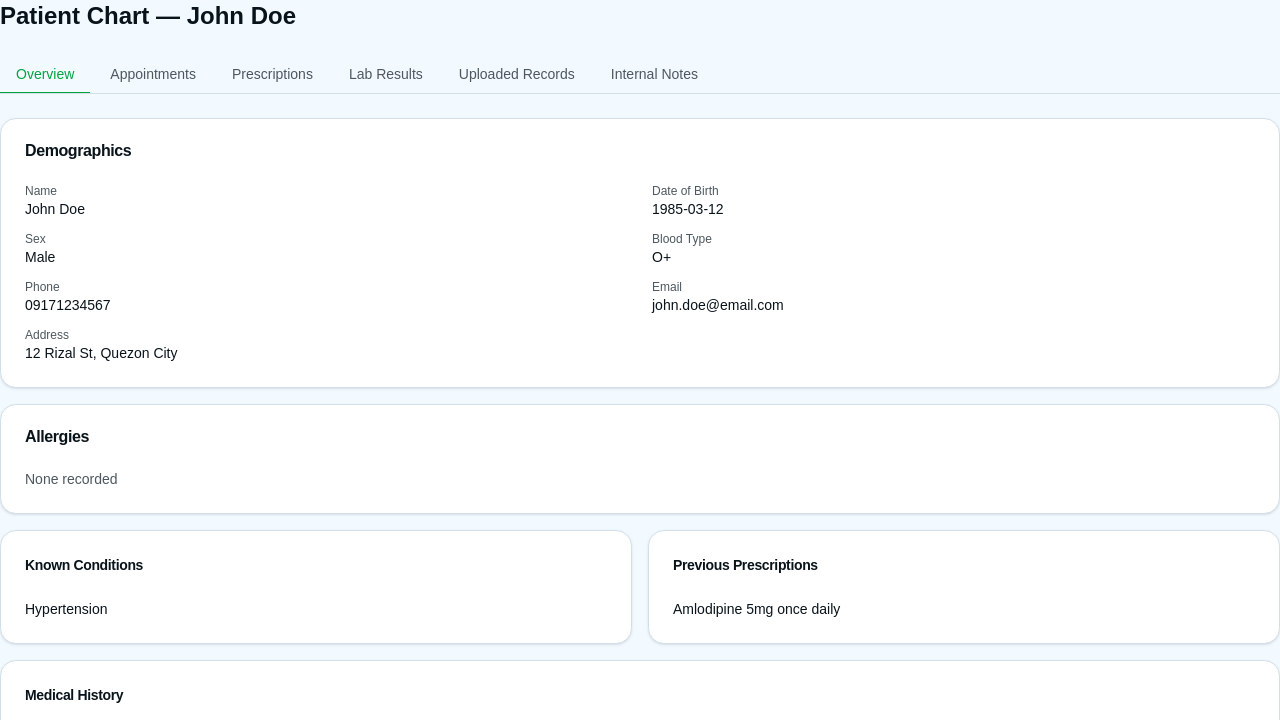
Test: Prescriptions UI (CC-59) › Saved prescription appears in list
Click the button "Prescriptions" at [272, 75], box [216,56,329,94]
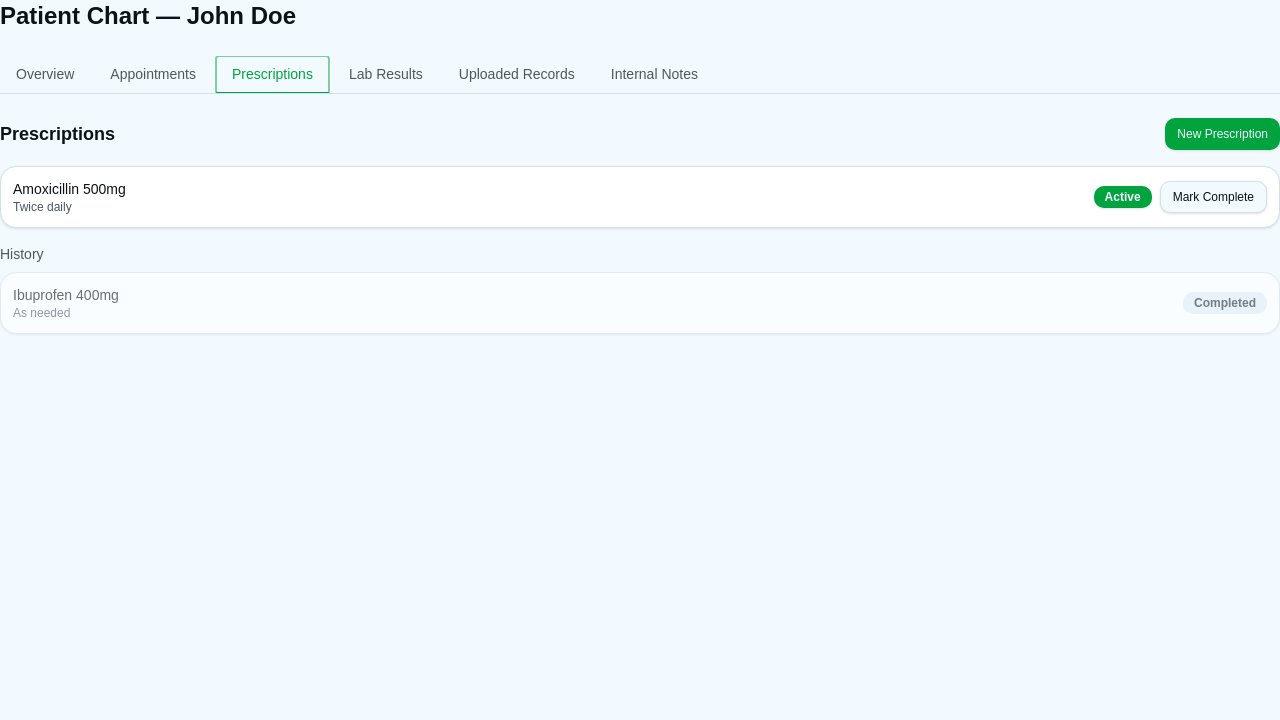
Click the button "New Prescription" at [1223, 134], box [1165,118,1279,150]
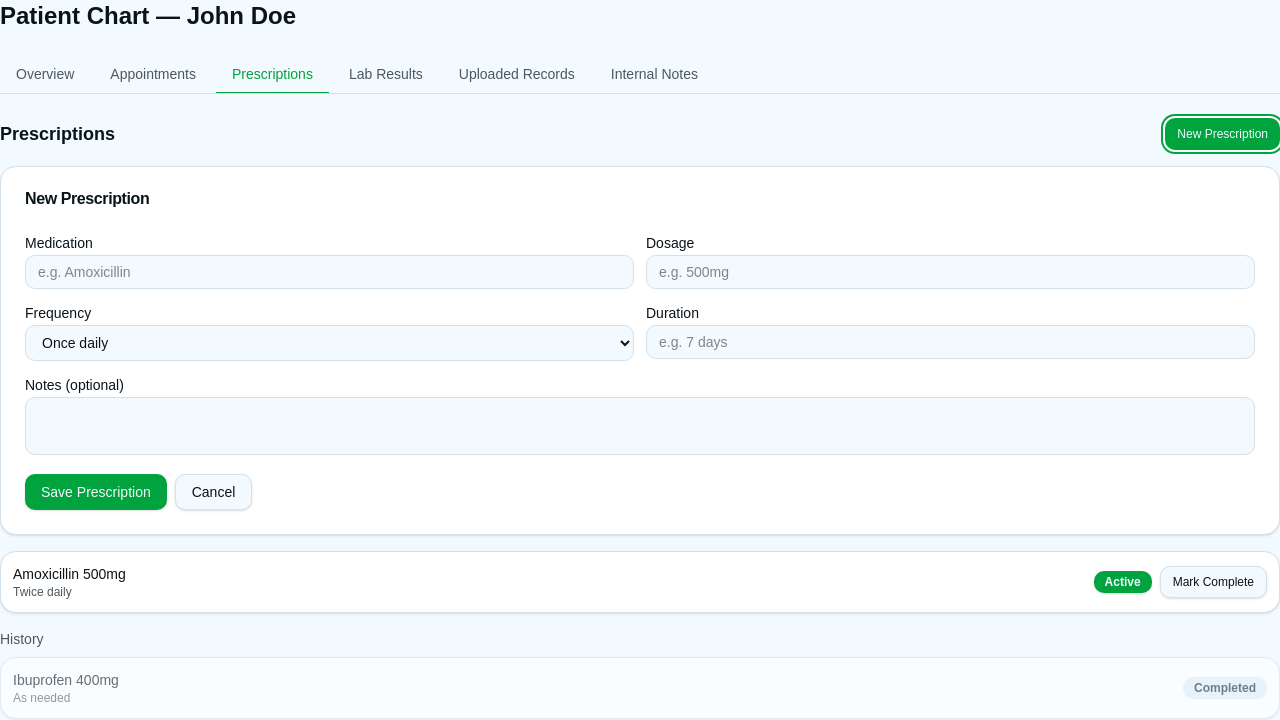
Type "Metformin" into the field labelled "Medication" at [330, 272], box [25,255,634,289]
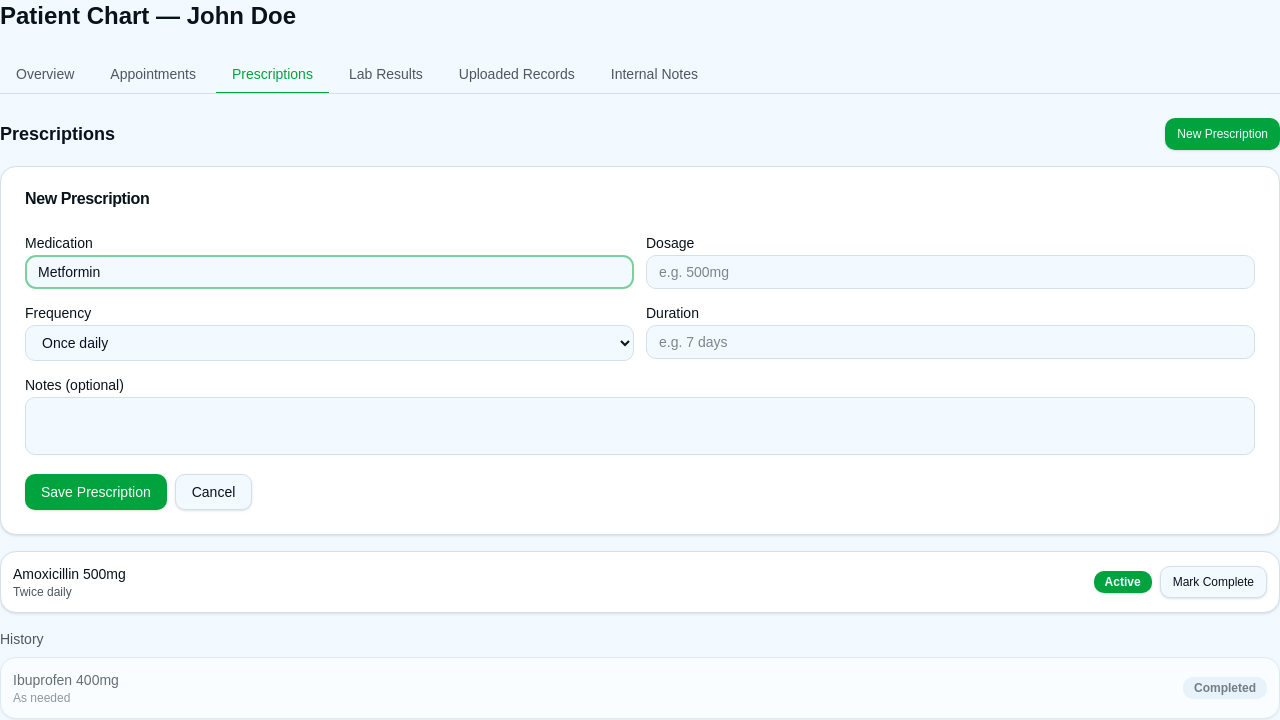
Type "1000mg" into the field labelled "Dosage" at [950, 272], box [646,255,1255,289]
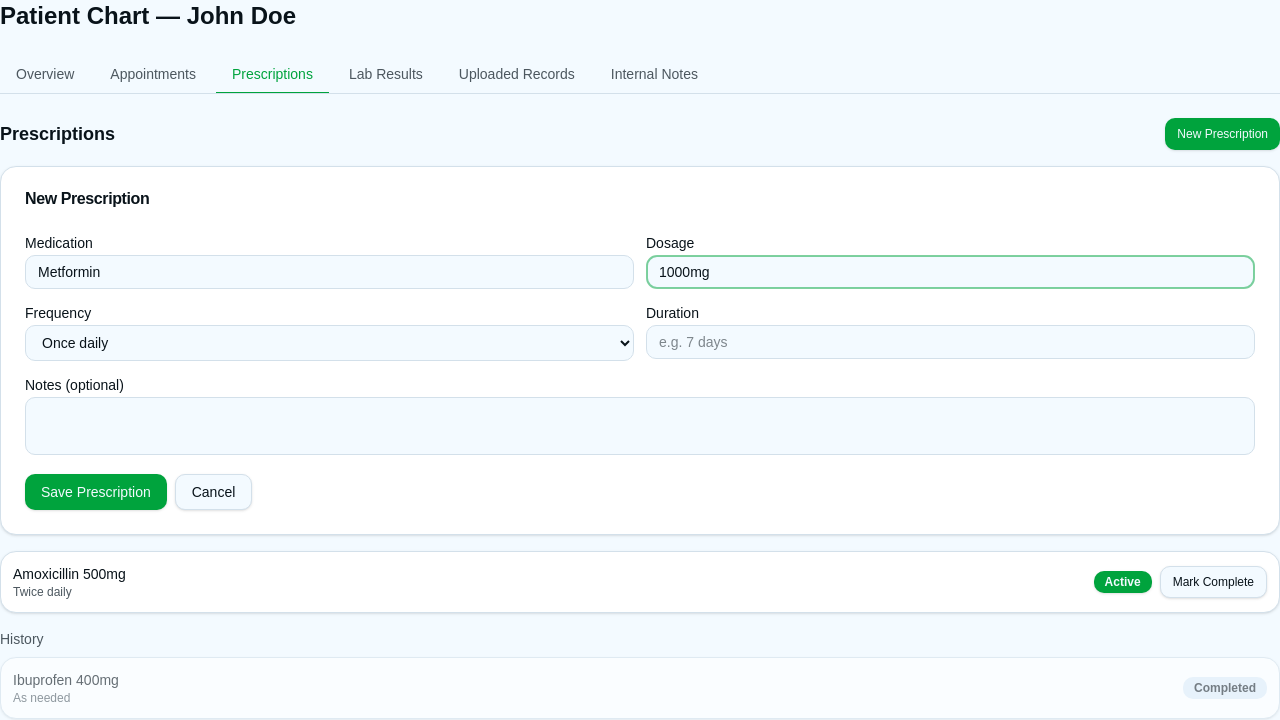
Type "30 days" into the field labelled "Duration" at [950, 342], box [646,325,1255,359]
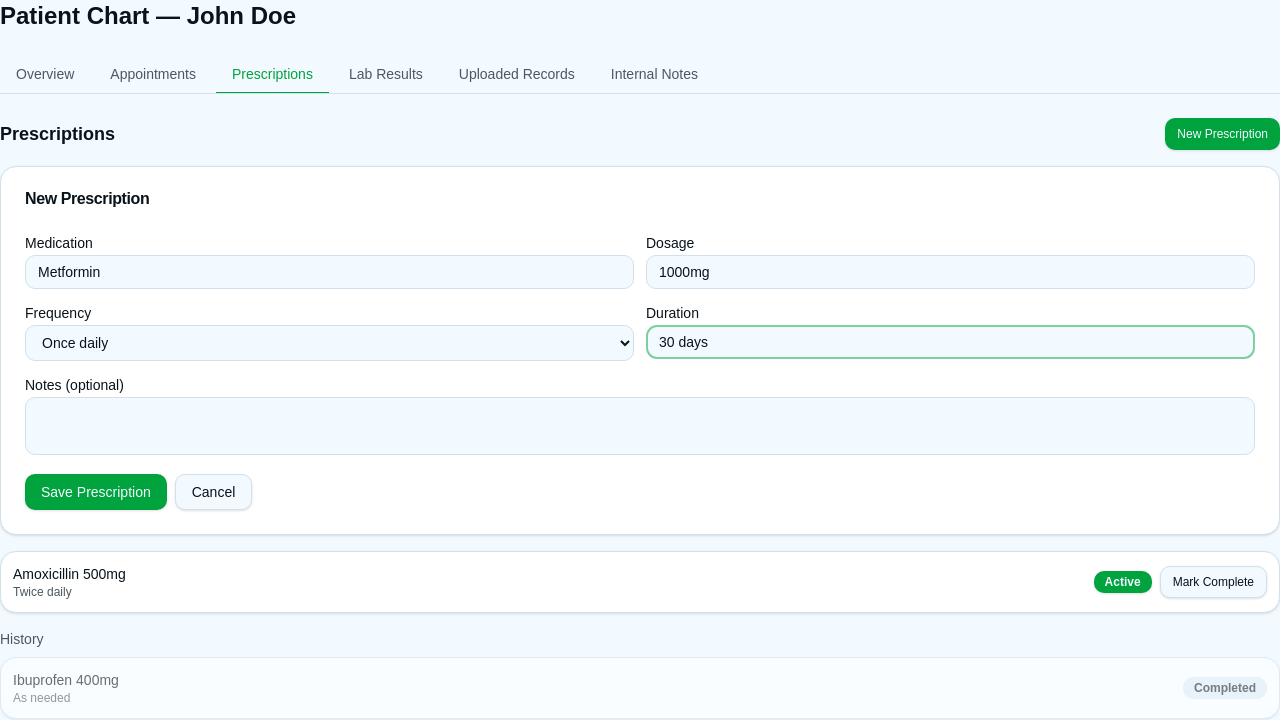
Click the button "Save Prescription" at [96, 492], box [25,474,167,510]
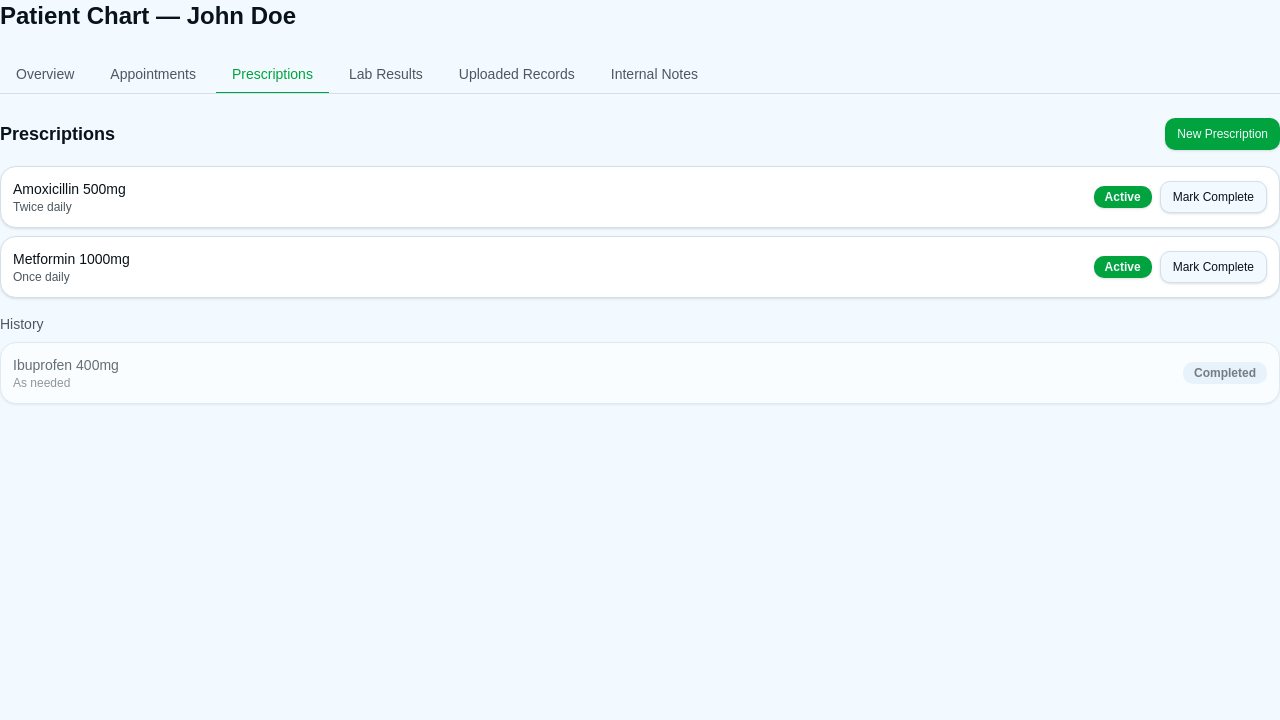
Expected: the text "Metformin 1000mg" is shown, [13,249,130,269]
